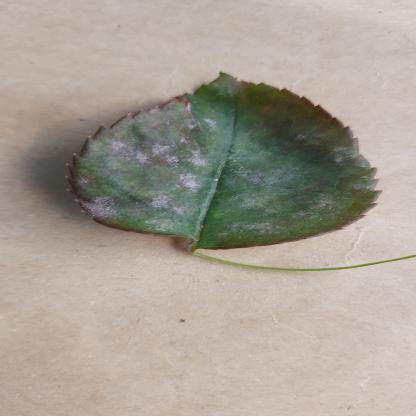powdery-mildew: (57, 69, 390, 249)
